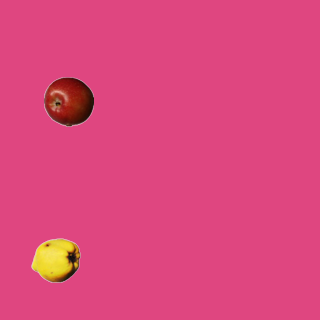Apple Braeburn: (43, 76, 93, 126)
Quince: (30, 235, 80, 285)
